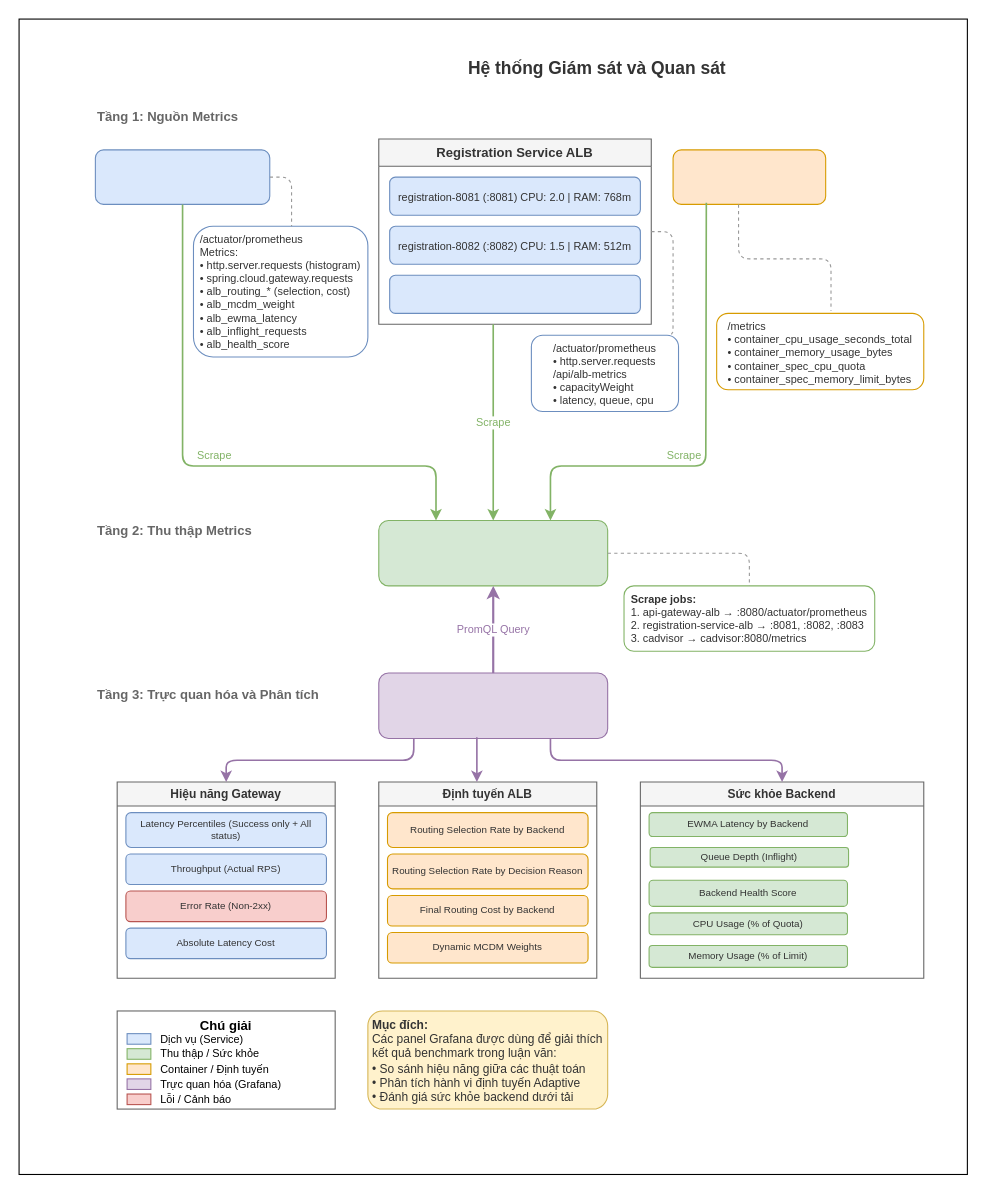
Some shapes in this 986 by 1194 pixel diagram are drawn without their labels. Each missing label, with the centre of its shape:
"API Gateway ALB :8080" goes at (182,176).
"cAdvisor :8080" goes at (749,176).
"Grafana (:3000) Dashboard: ALB Routing Score" goes at (493,705).
"Prometheus (:9090) scrape_interval: 5s" goes at (493,552).
"registration-8083 (:8083) CPU: 1.0 | RAM: 384m" goes at (514,293).
